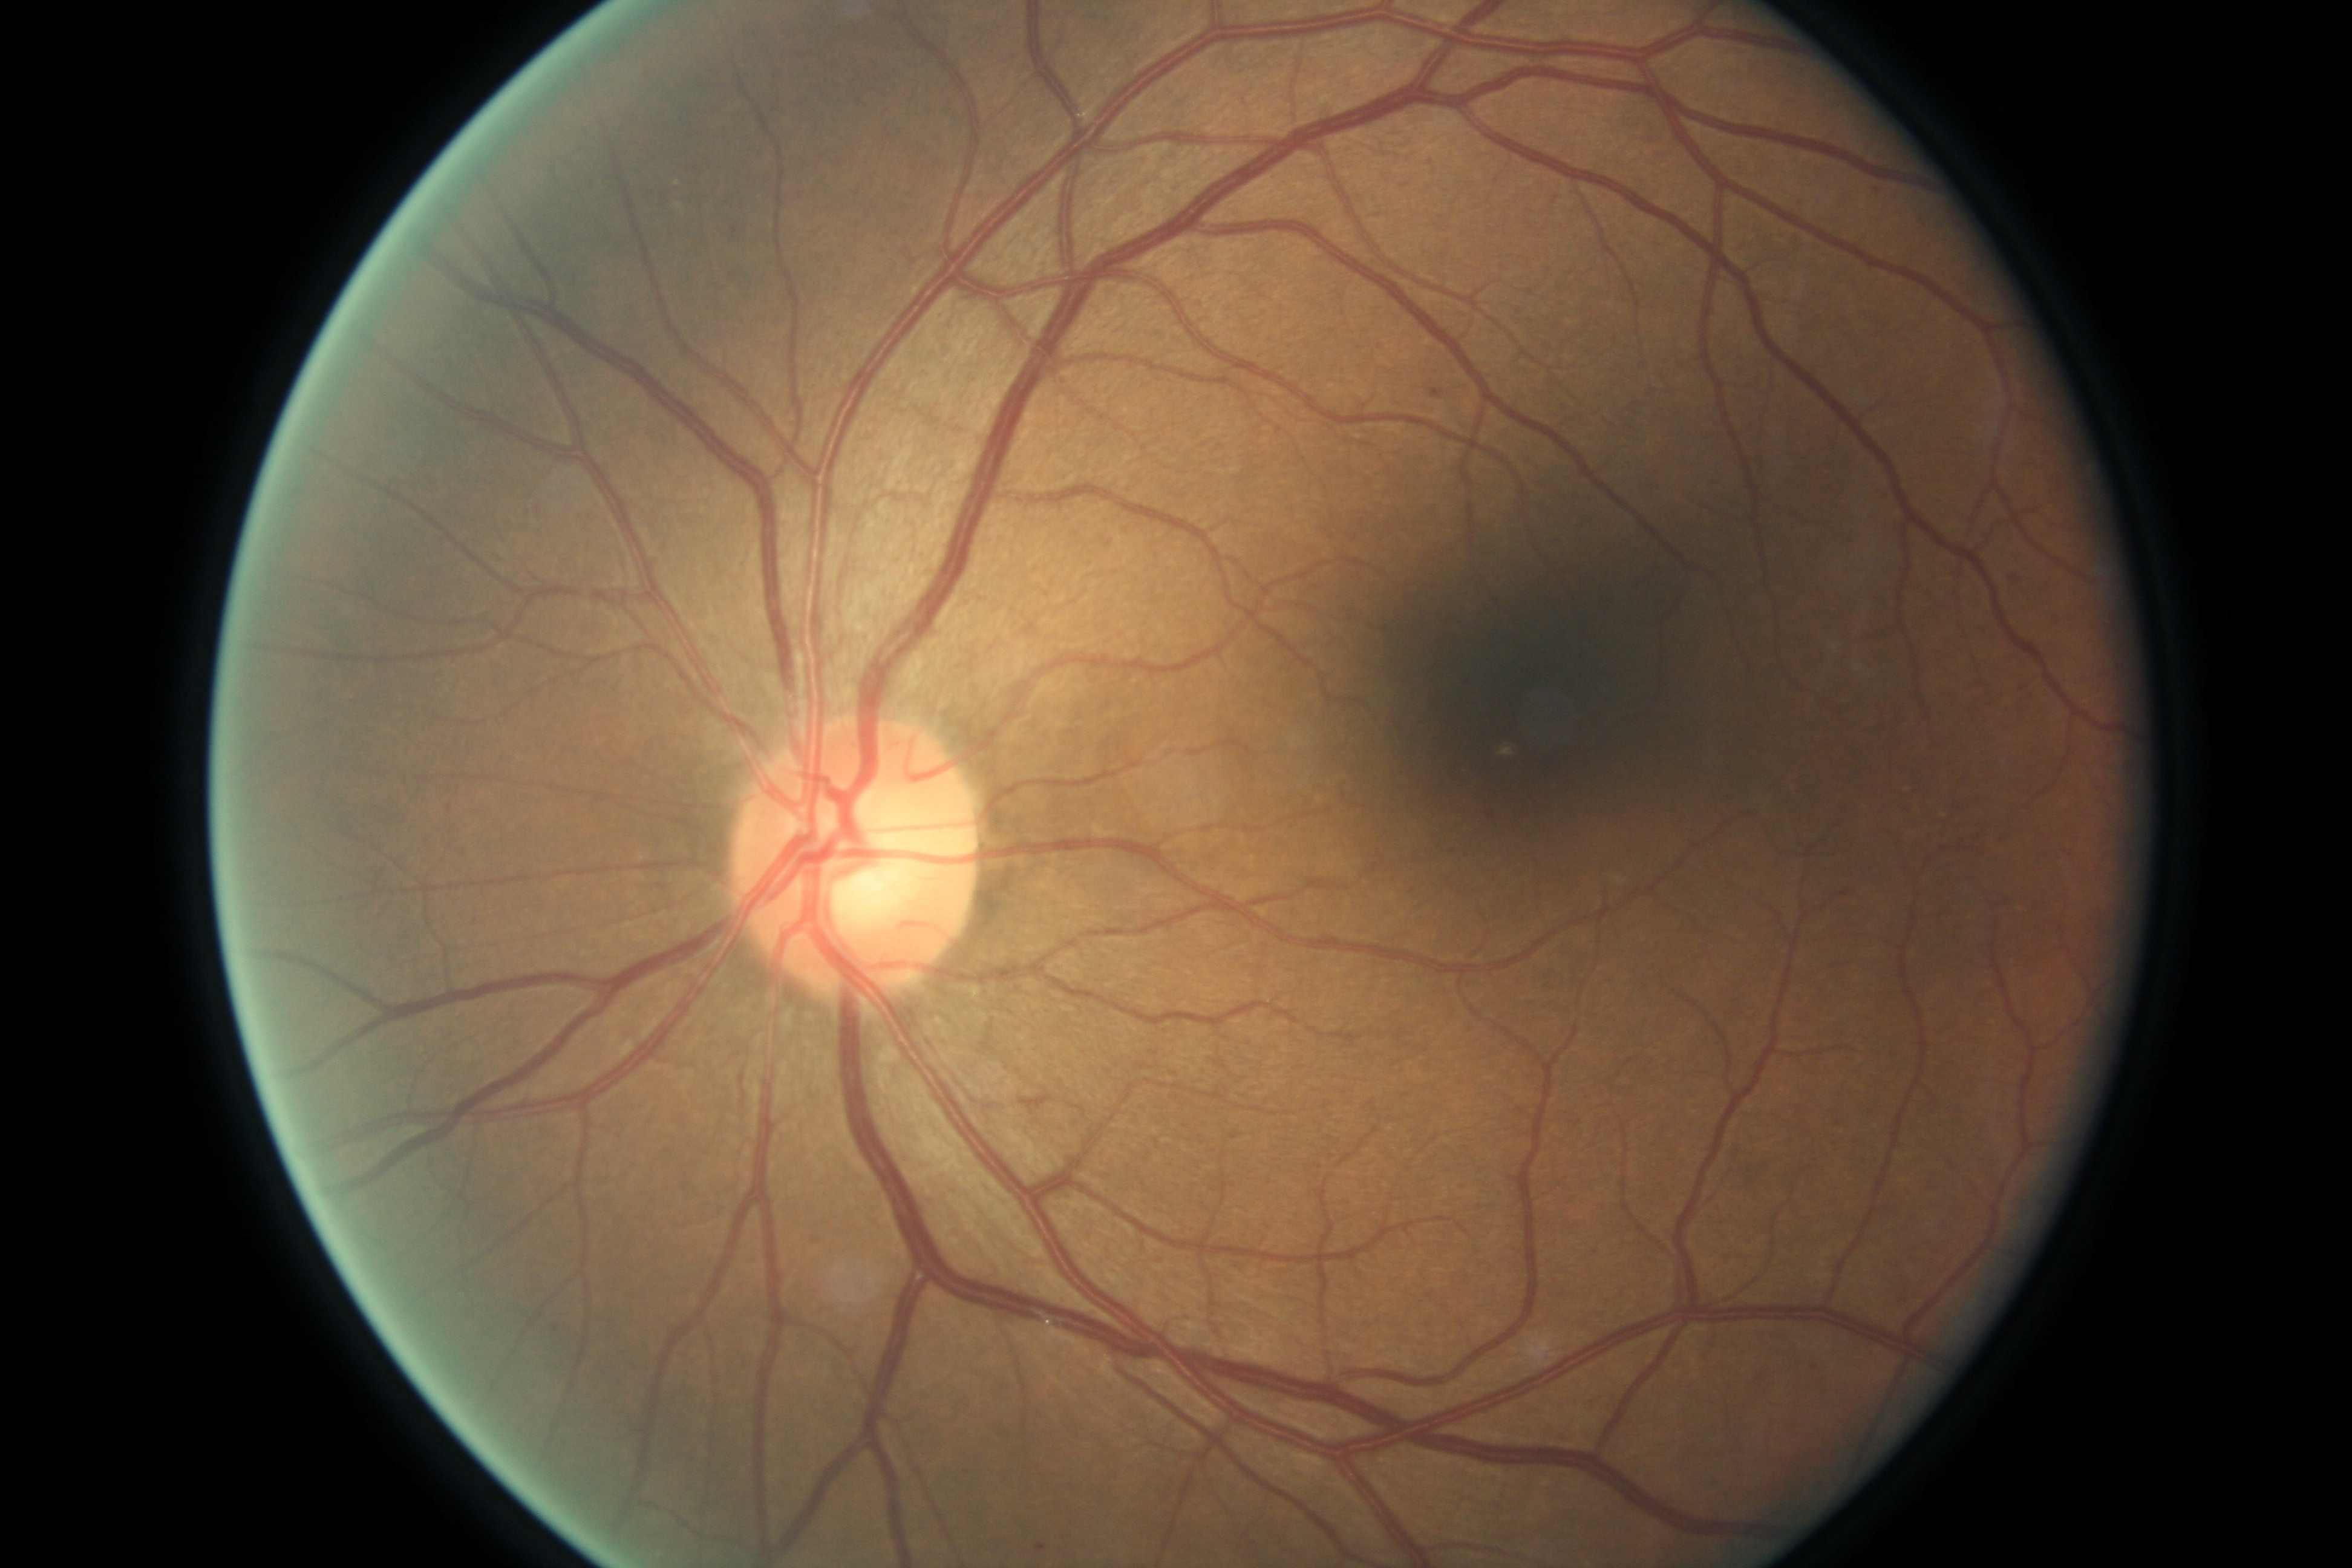Fovea: (1407, 660, 1657, 885)
OD: (723, 703, 989, 1006)
